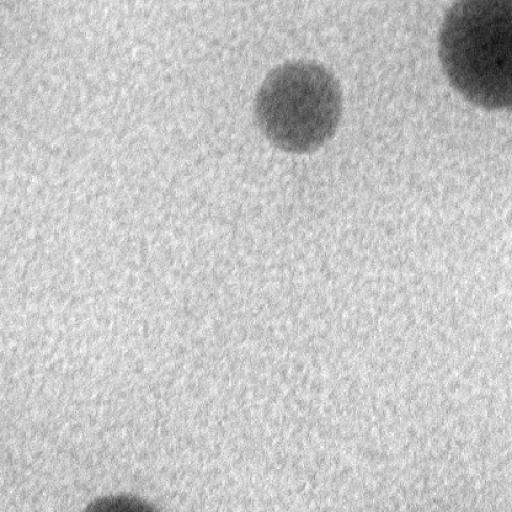Nanoparticles: (252, 53, 347, 156), (431, 0, 512, 115), (71, 491, 170, 512)
